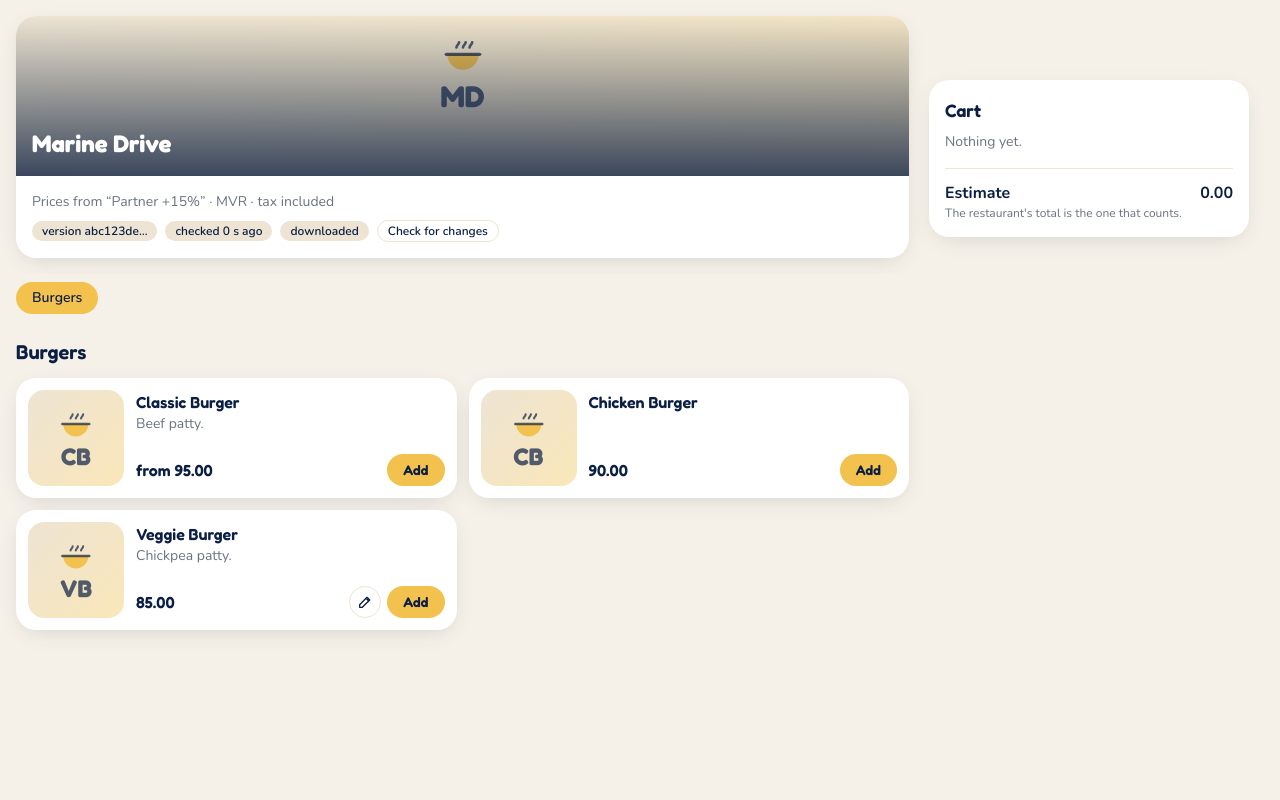
MenuPage › adds a plain item in one tap, with no sheet
The width and height of the screenshot is (1280, 800).
Expected: the text "Prices from “Partner +15%” · MVR · tax included" is shown, x1=32 y1=192 x2=334 y2=211
Click the button with aria-label "Add Veggie Burger" at (416, 602), box x1=387 y1=586 x2=444 y2=618
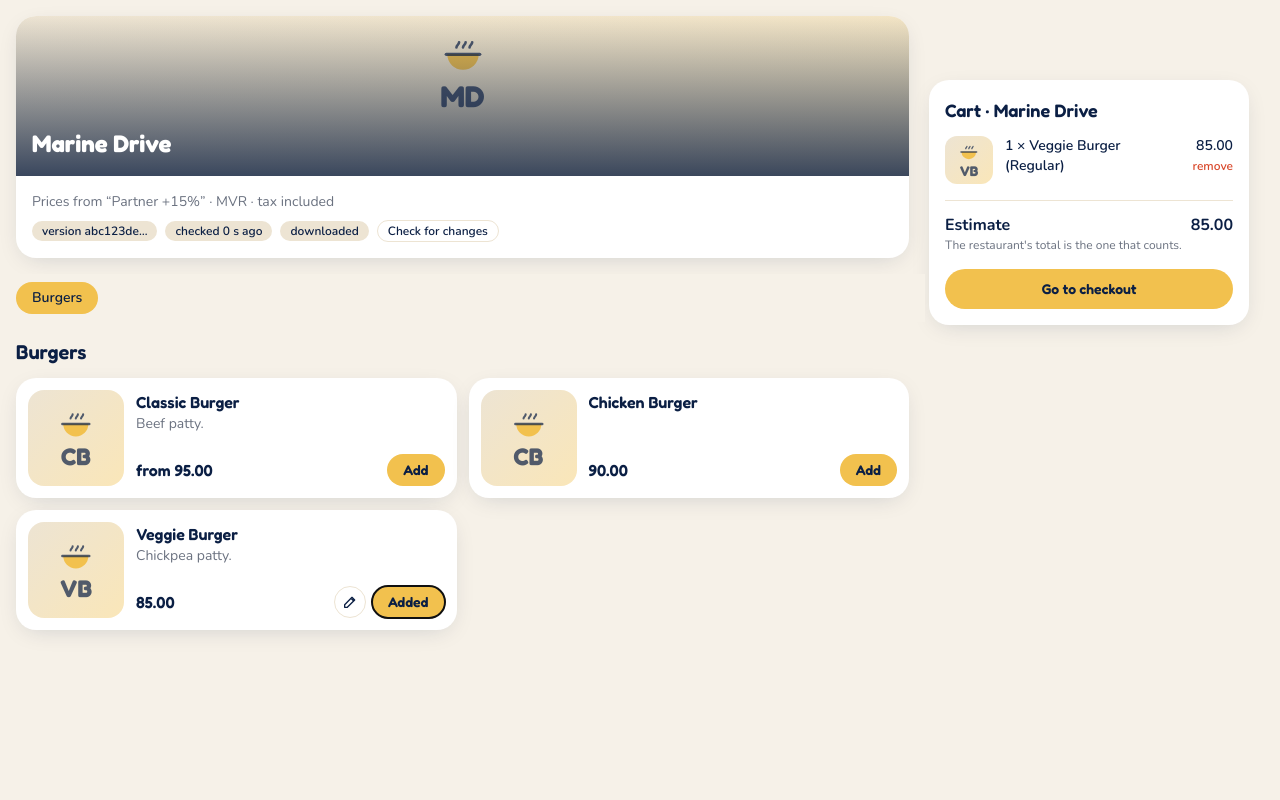
Result: the button with aria-label "Add Veggie Burger" reads "Added" at x1=372 y1=586 x2=444 y2=618
Result: the element that starts with "Cart" shows "1 × Veggie Burger (Regular)" at x1=929 y1=80 x2=1249 y2=325
Result: the element that starts with "Cart" shows "85.00" at x1=1196 y1=136 x2=1233 y2=155
